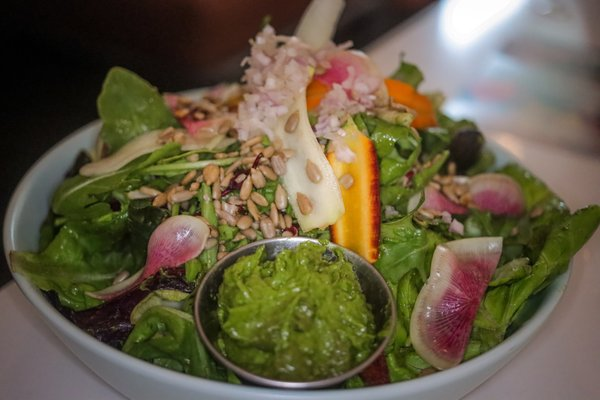sushi: (4, 81, 551, 396), (1, 108, 373, 396), (192, 236, 396, 389)
